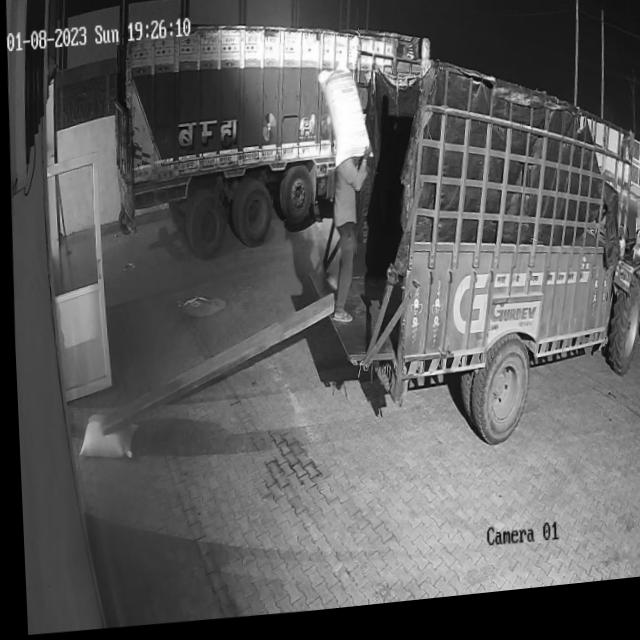sack: (314, 71, 370, 176), (74, 410, 133, 463)
